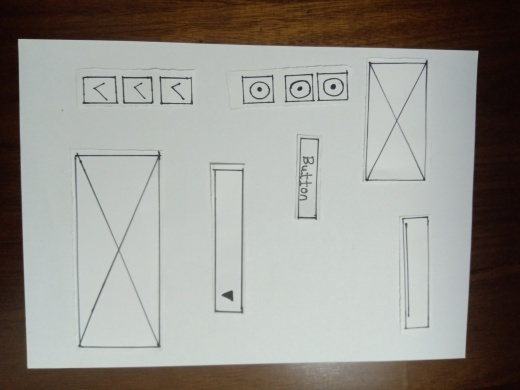button: (298, 134, 322, 221)
checkbox: (161, 79, 193, 105), (80, 77, 112, 103), (121, 76, 153, 102)
dropdown: (209, 161, 247, 315)
img: (73, 152, 162, 350), (369, 62, 428, 180)
radio: (317, 73, 348, 100), (286, 75, 317, 102), (244, 77, 274, 102)
text: (399, 216, 434, 336)
